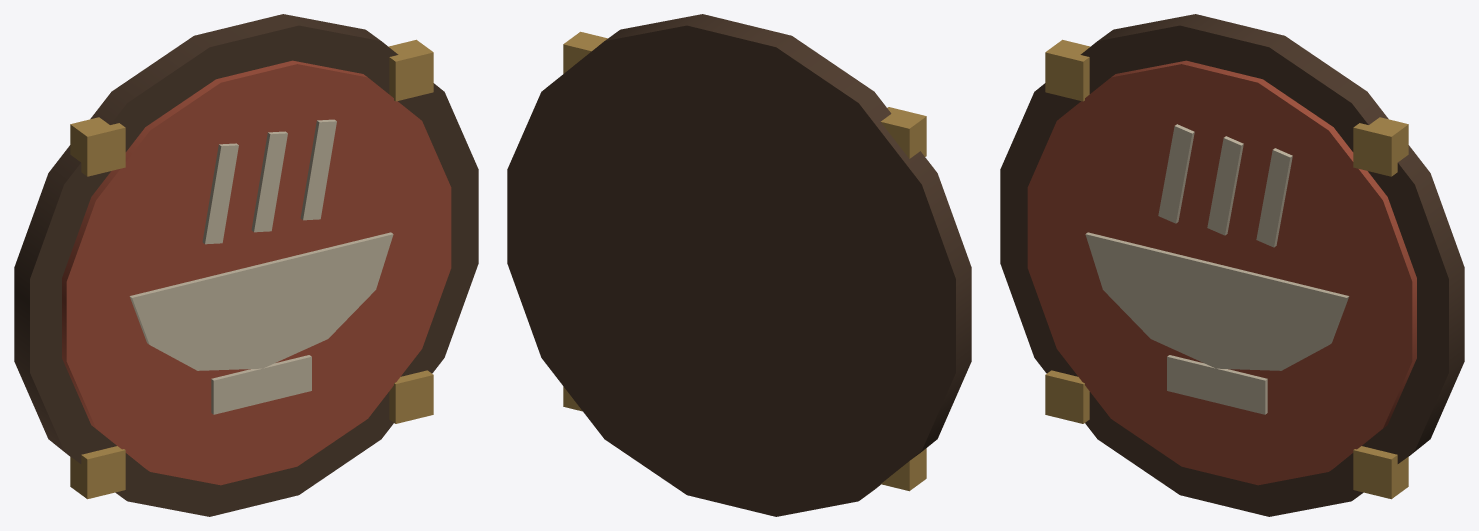
File: sign_round.glb
3 views of the same model, side by side, from view 1: azimuth 30°, elevation 25°; view 2: azimuth 150°, elevation 25°; view 3: azimuth 330°, elevation 25° (orthographic).
Visible parts, largest first — view 1: sign_round; view 2: sign_round; view 3: sign_round.
Part boxes in pixels (<box>): sign_round: <box>14,14,478,516</box>; sign_round: <box>507,14,971,516</box>; sign_round: <box>1000,14,1464,516</box>.
Bounding box in the file's own units: 0.8239 × 0.8239 × 0.077.
